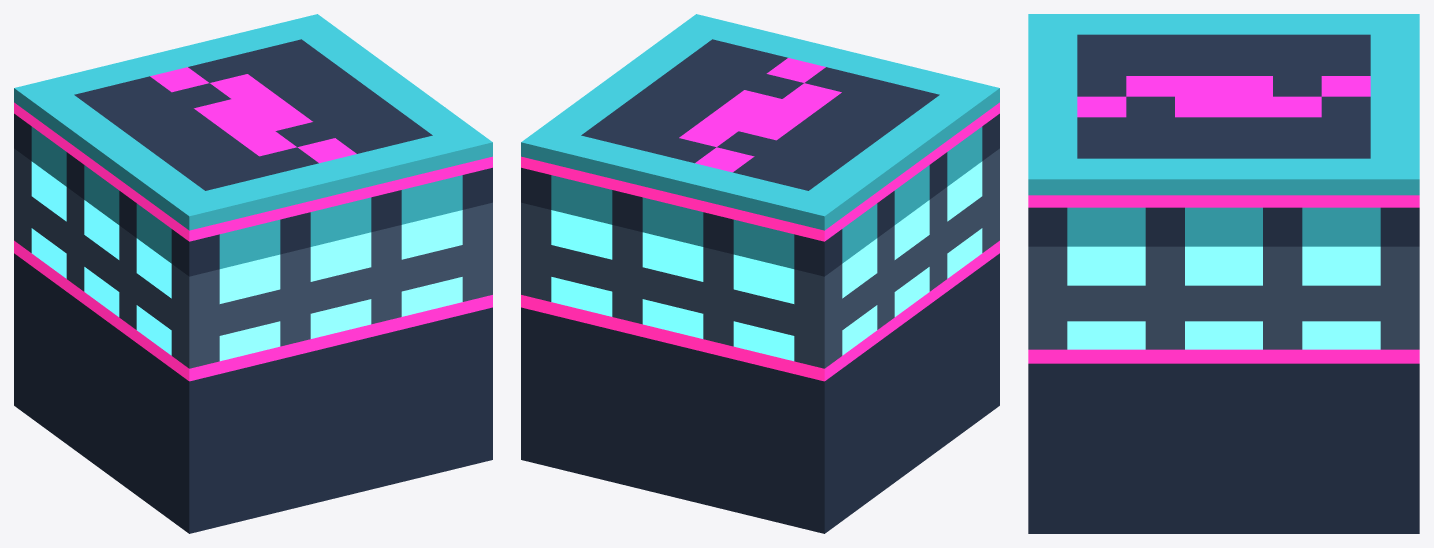
File: tower_neon.glb
3 renders of one model, left to right at view 1: azimuth 30°, elevation 25°; view 2: azimuth 150°, elevation 25°; view 3: azimuth 270°, elevation 25°, orthographic. The views are drawn at different scales.
Visible parts, largest first — view 1: detail_Midnight alloy, detail_Cyan enamel, detail_Roof slate, detail_Penthouse magenta, detail_Window glow; view 2: detail_Midnight alloy, detail_Cyan enamel, detail_Roof slate, detail_Penthouse magenta, detail_Window glow; view 3: detail_Midnight alloy, detail_Cyan enamel, detail_Roof slate, detail_Penthouse magenta, detail_Window glow.
Boxes of the visible parts, <box> form: detail_Midnight alloy: <box>14,39,492,533</box>; detail_Cyan enamel: <box>14,14,492,268</box>; detail_Roof slate: <box>14,148,492,368</box>; detail_Penthouse magenta: <box>14,67,492,381</box>; detail_Window glow: <box>31,161,462,361</box>; detail_Midnight alloy: <box>521,39,999,533</box>; detail_Cyan enamel: <box>521,14,999,268</box>; detail_Roof slate: <box>521,148,999,368</box>; detail_Penthouse magenta: <box>521,58,999,381</box>; detail_Window glow: <box>551,161,982,361</box>; detail_Midnight alloy: <box>1028,34,1419,533</box>; detail_Cyan enamel: <box>1028,14,1419,246</box>; detail_Roof slate: <box>1028,246,1419,349</box>; detail_Penthouse magenta: <box>1028,76,1419,363</box>; detail_Window glow: <box>1067,246,1380,349</box>.
Size of the model in its own units: 10 by 10 by 10.
